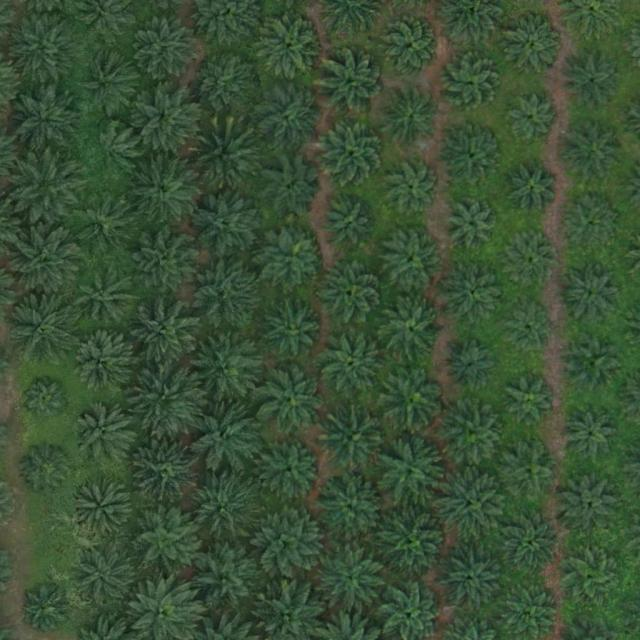Healthy: (127, 155, 198, 226), (317, 49, 387, 120), (191, 51, 261, 122), (192, 189, 263, 259), (190, 257, 260, 328), (131, 229, 202, 299), (131, 298, 201, 369), (9, 85, 79, 156), (11, 152, 81, 223), (12, 225, 82, 296), (8, 289, 78, 360), (132, 365, 203, 435), (130, 506, 200, 577), (193, 332, 263, 403), (191, 404, 262, 474), (187, 473, 258, 543), (192, 545, 263, 615), (258, 366, 328, 437), (255, 507, 325, 578), (322, 407, 392, 478), (375, 437, 446, 507), (380, 510, 450, 581), (437, 469, 507, 540), (439, 544, 509, 615), (10, 14, 80, 84), (132, 14, 202, 84), (318, 118, 388, 188), (191, 123, 261, 193), (133, 85, 203, 155), (133, 438, 203, 508), (317, 328, 387, 398), (317, 474, 387, 544), (317, 548, 387, 618), (440, 52, 503, 115), (444, 262, 507, 325), (380, 15, 443, 78), (380, 86, 443, 149), (262, 227, 325, 290), (260, 298, 323, 361), (70, 334, 133, 397), (74, 404, 137, 467), (559, 470, 622, 533), (561, 49, 623, 112), (381, 229, 443, 292), (381, 302, 443, 365), (321, 263, 383, 326), (258, 16, 320, 79), (256, 86, 318, 149), (262, 158, 324, 221), (78, 52, 140, 115), (75, 268, 138, 330), (71, 478, 133, 541), (77, 549, 140, 611), (262, 439, 324, 502), (443, 404, 505, 467), (498, 440, 560, 503), (563, 332, 625, 395), (563, 121, 625, 183), (560, 263, 622, 325), (504, 14, 566, 76), (443, 125, 505, 187), (73, 194, 135, 256), (382, 367, 444, 429), (506, 94, 561, 149), (447, 196, 502, 251), (324, 197, 379, 252), (84, 125, 139, 180), (505, 516, 560, 571), (564, 409, 619, 464), (564, 548, 619, 603), (565, 201, 619, 256), (386, 161, 440, 216), (20, 444, 74, 499), (511, 167, 558, 215), (23, 586, 70, 634), (508, 376, 555, 424), (510, 237, 557, 284), (505, 309, 552, 356), (449, 343, 496, 390)
Small: (22, 376, 69, 423)
